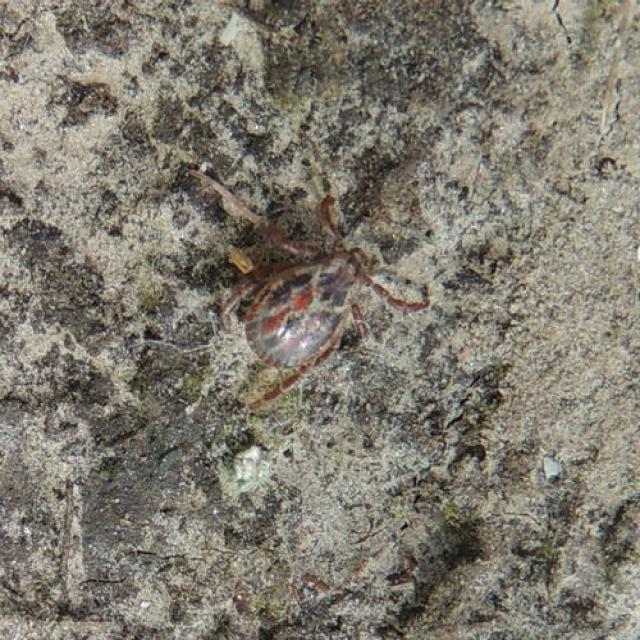Dermacentor Reticulatus-M: (219, 194, 430, 409)
